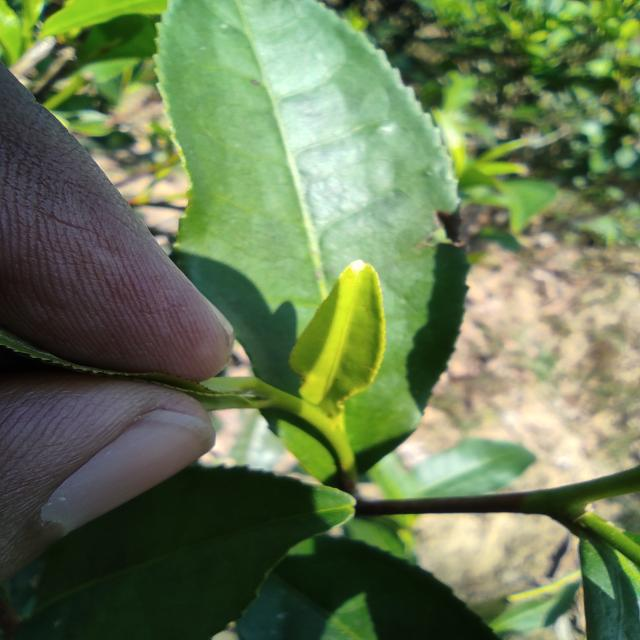Category C(4-7 days): (274, 250, 406, 432)
